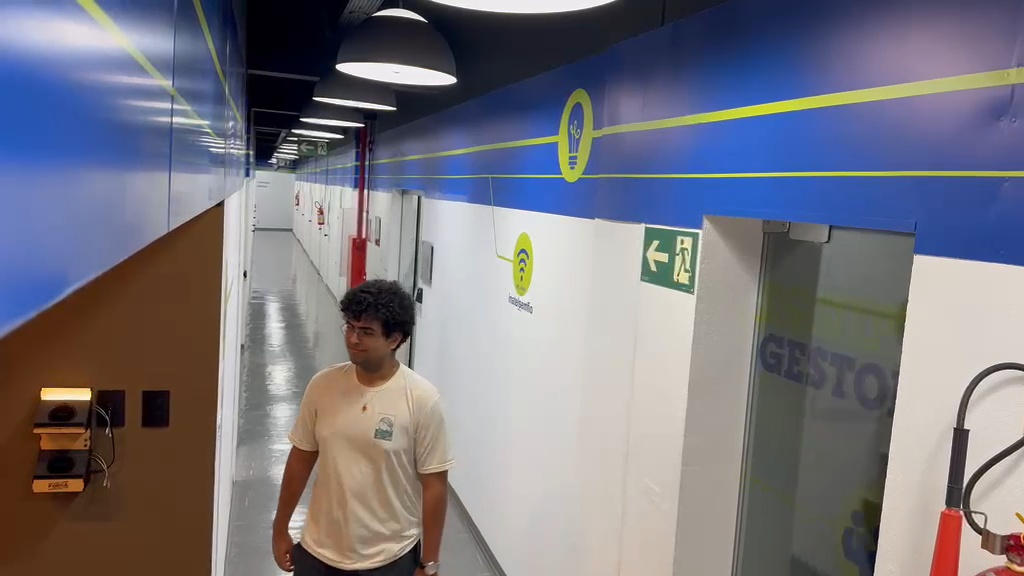person: (269, 279, 452, 573)
